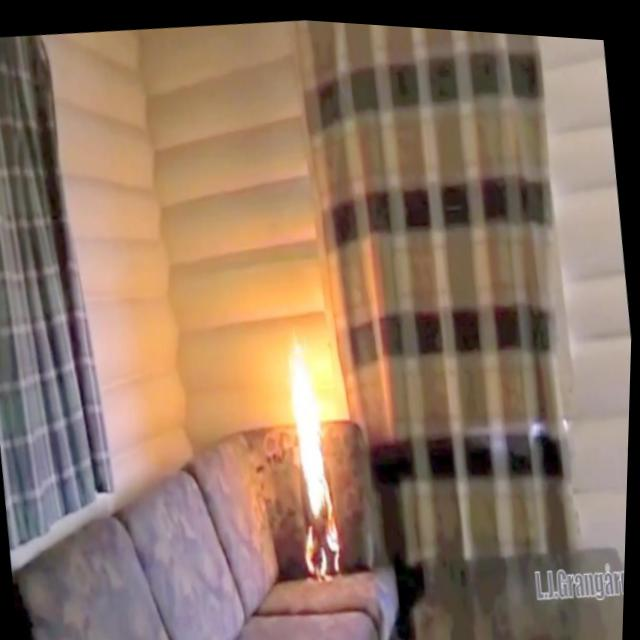fire: (266, 318, 356, 589)
